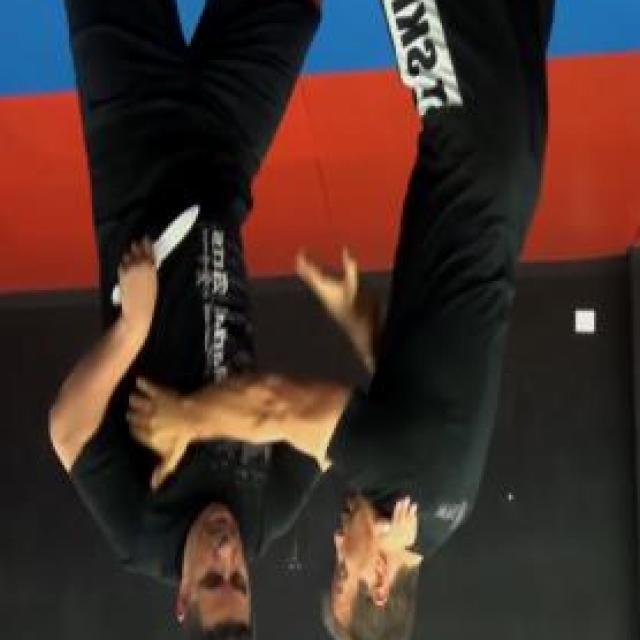knife: (108, 199, 200, 313)
